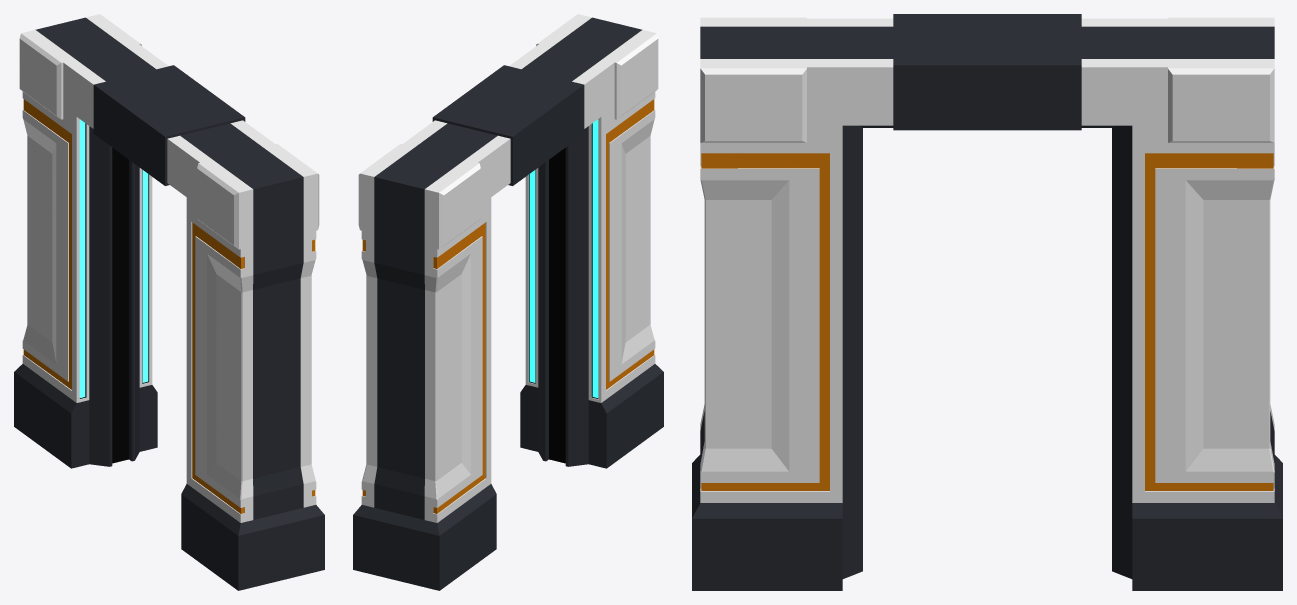
Rendered from doorframe_single.glb.
3 renders of one model, left to right at view 1: azimuth 30°, elevation 25°; view 2: azimuth 150°, elevation 25°; view 3: azimuth 270°, elevation 25°, orthographic. The views are drawn at different scales.
Visible parts, largest first — view 1: SM_DoorFrame_Single; view 2: SM_DoorFrame_Single; view 3: SM_DoorFrame_Single.
Boxes of the visible parts, x1,y1,x2,y2 form: SM_DoorFrame_Single: (14,14,324,590); SM_DoorFrame_Single: (353,14,663,590); SM_DoorFrame_Single: (692,14,1282,590).
Bounding box in the file's own units: 0.4581 × 2.01 × 2.06.
